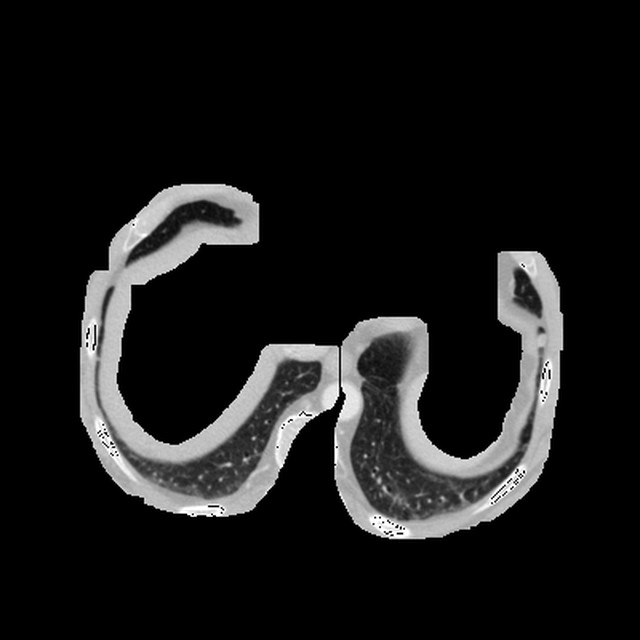PN: (534, 334, 547, 347)
